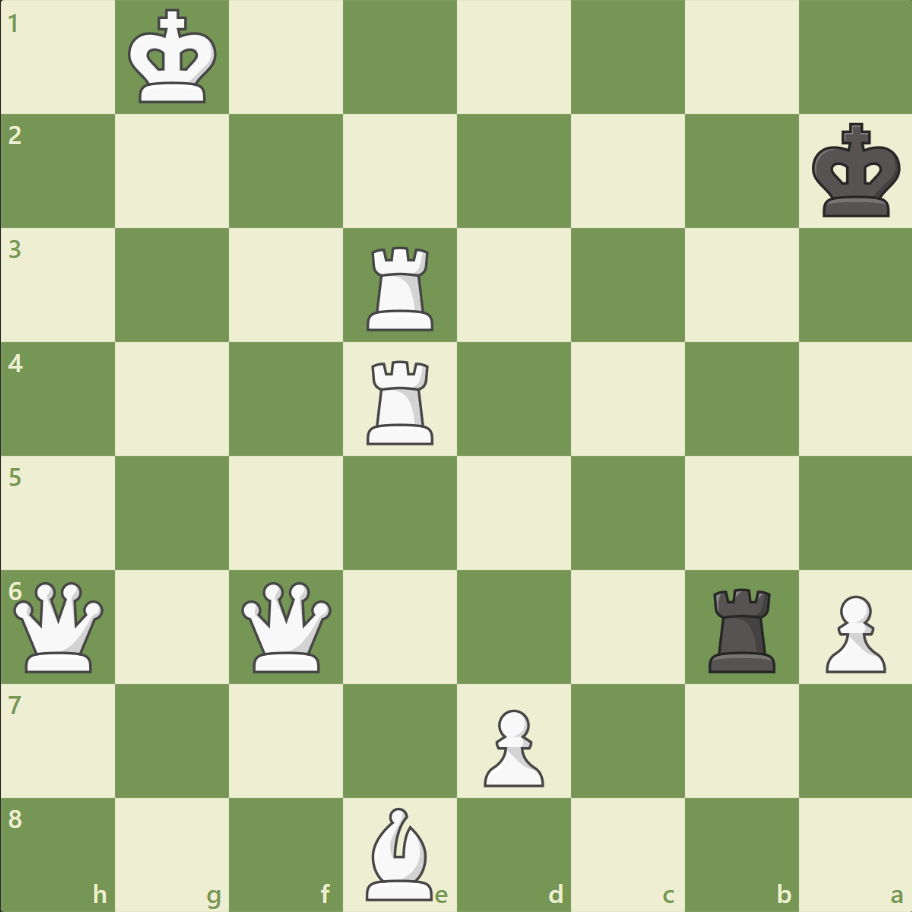B: (358, 801, 442, 904)
K: (124, 4, 224, 112)
P: (474, 700, 549, 791), (815, 586, 889, 677)
Q: (237, 576, 336, 676), (10, 576, 109, 676)
R: (360, 352, 442, 449), (360, 239, 442, 336)
k: (806, 117, 906, 225)
r: (700, 579, 783, 676)
